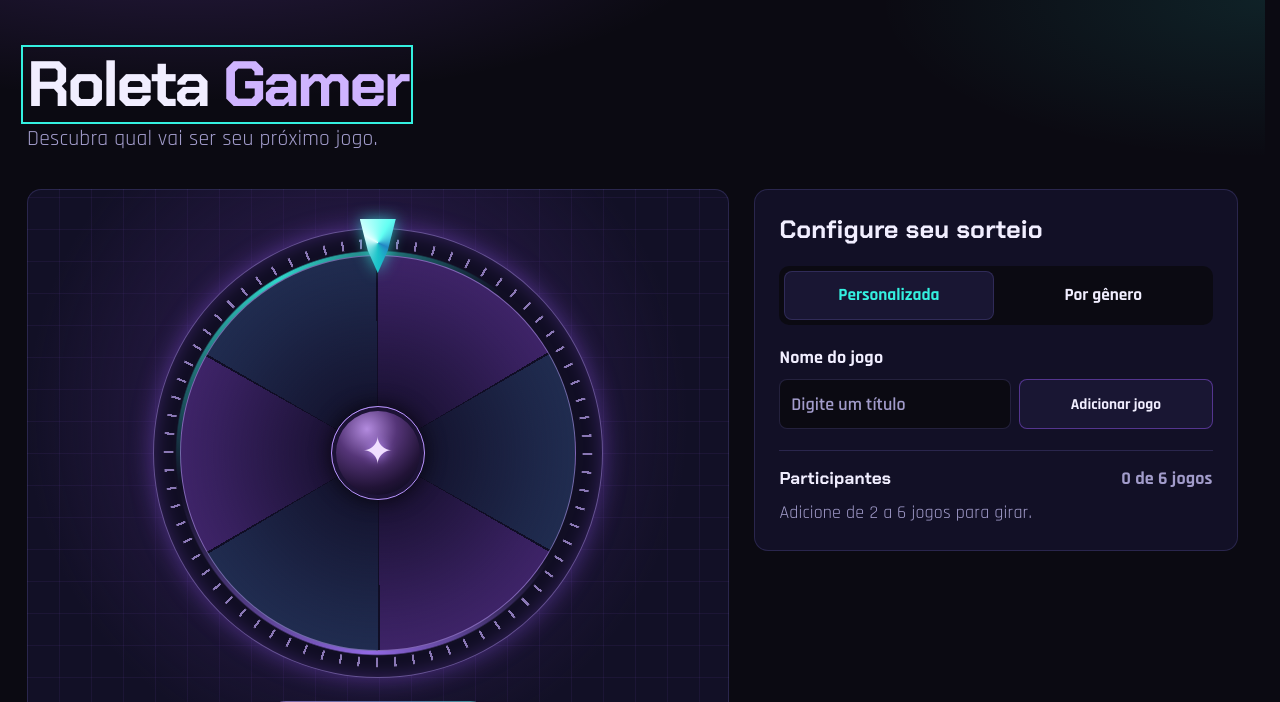
Test case: oferece recuperação de erro e distingue resultados vazios e insuficientes
Click the button "Por gênero". click: (1103, 295)
box: [998,270,1208,320]
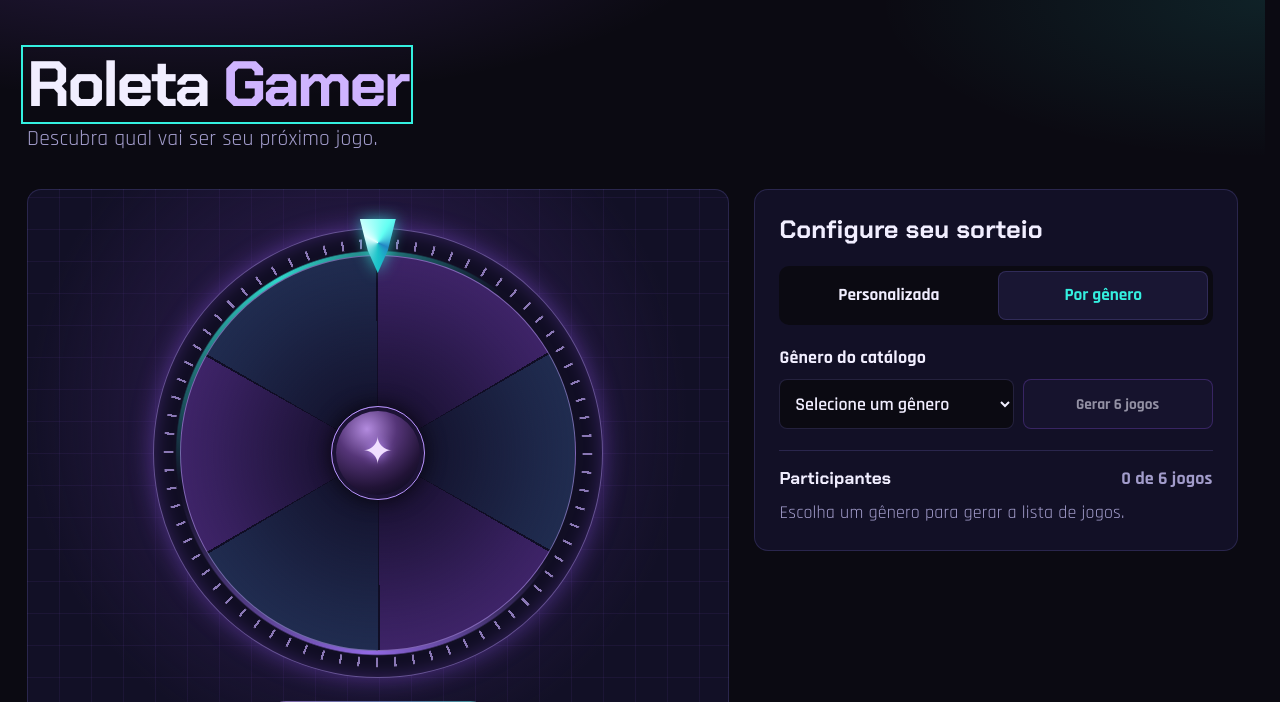
Select "Aventura" in the dropdown. click: (897, 404)
box: [780,379,1014,429]
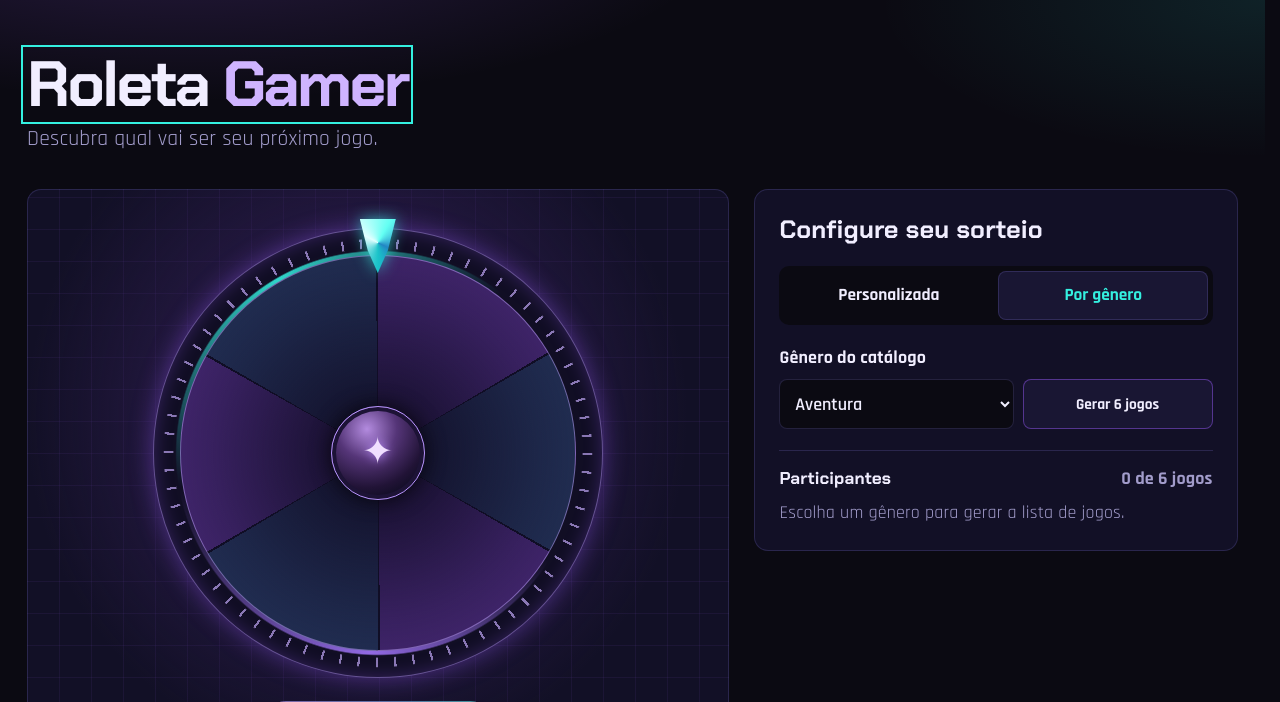
Click the button "Gerar 6 jogos". click: (1118, 404)
box: [1022,379,1213,429]
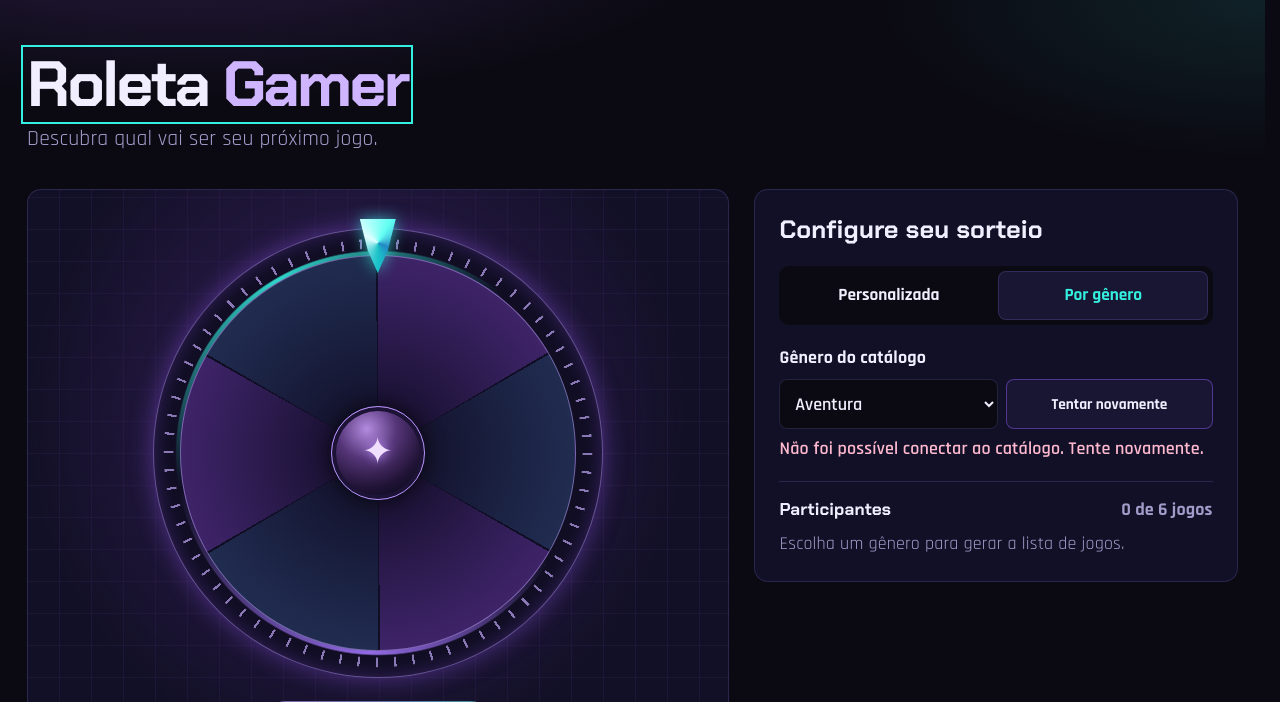
expect the message "Não foi possível conectar ao catálogo. Tente novamente." is shown: met, box [780,437,1213,460]
Click the button "Tentar novamente". click: (1109, 404)
box: [1006,379,1213,429]
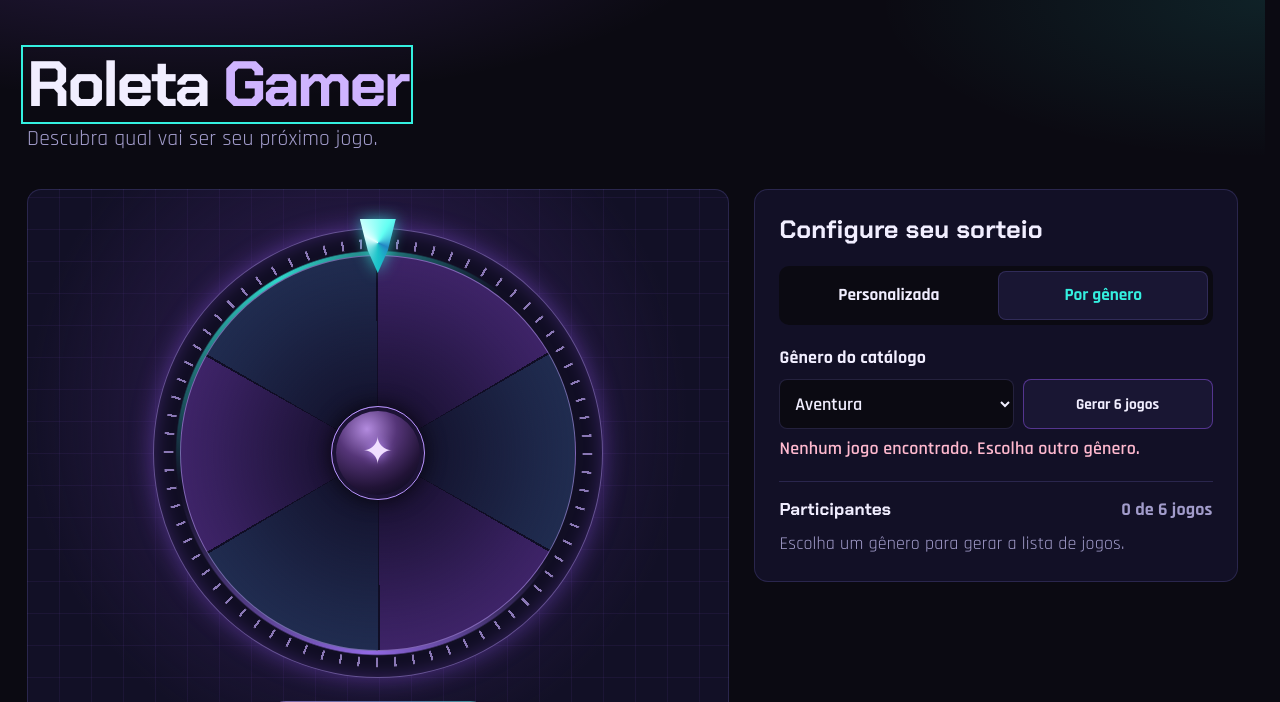
expect the message "Nenhum jogo encontrado. Escolha outro gênero." is shown: met, box [780,437,1140,460]
Select "Tiro" in the dropdown. click: (897, 404)
box: [780,379,1014,429]
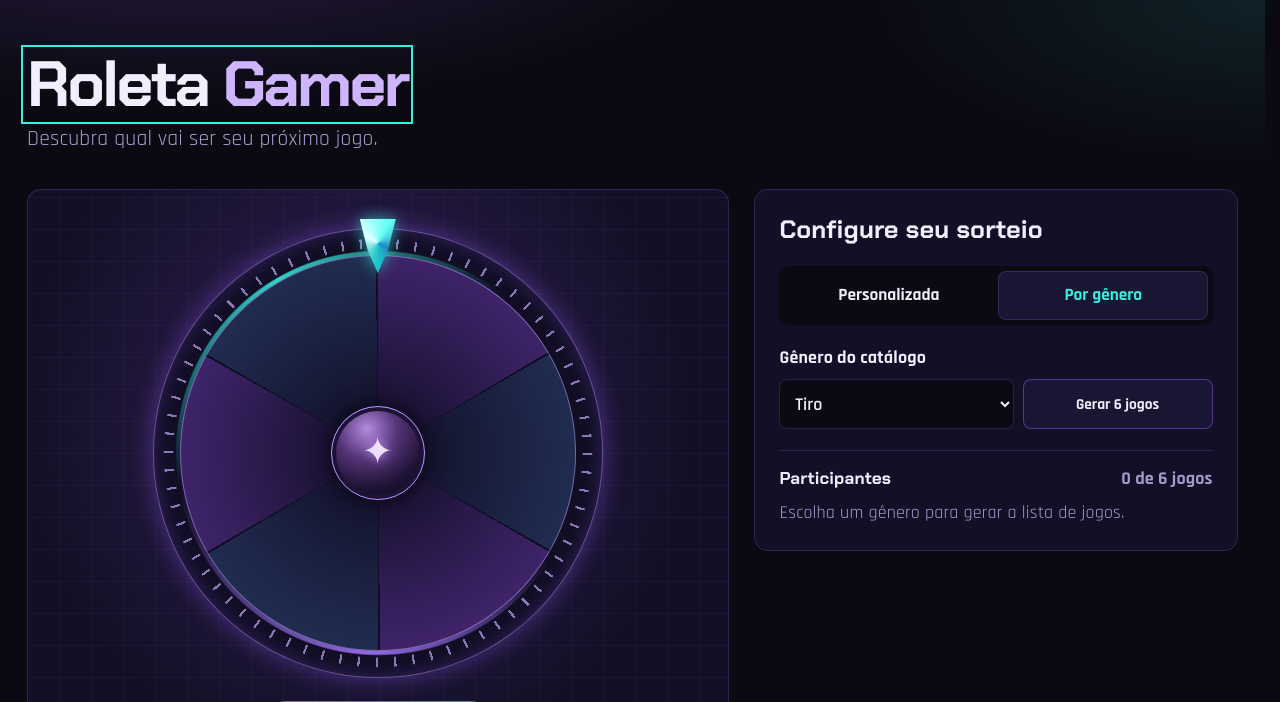
Click the button "Gerar 6 jogos". click: (1118, 404)
box: [1022,379,1213,429]
(page scrolled)
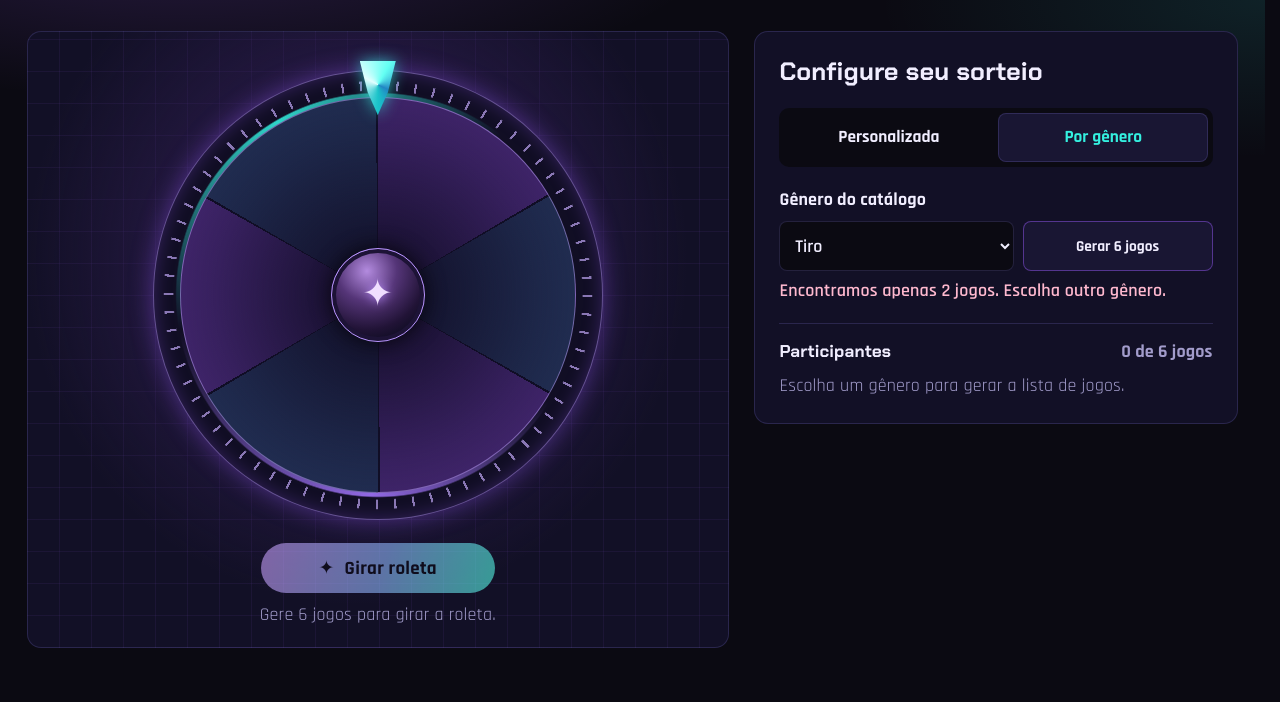
expect the button "✦ Girar roleta" is disabled: met, box [261,543,495,593]
expect the message "Encontramos apenas 2 jogos. Escolha outro gênero." is shown: met, box [780,279,1213,302]
